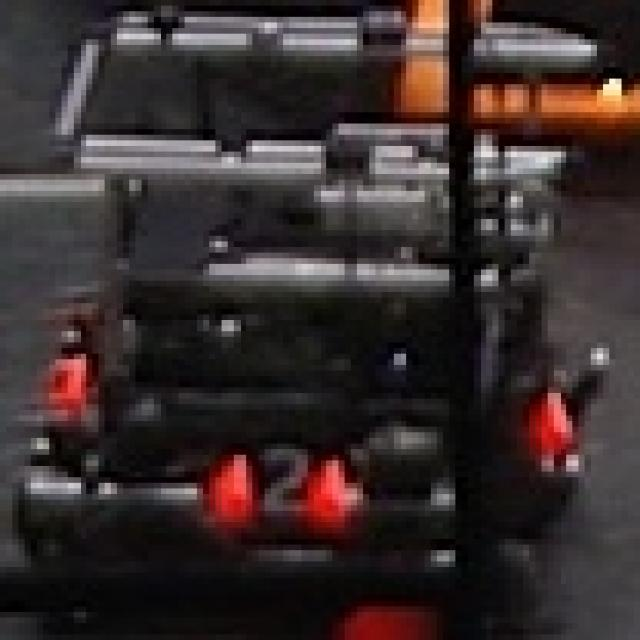R2: (203, 444, 351, 522)
